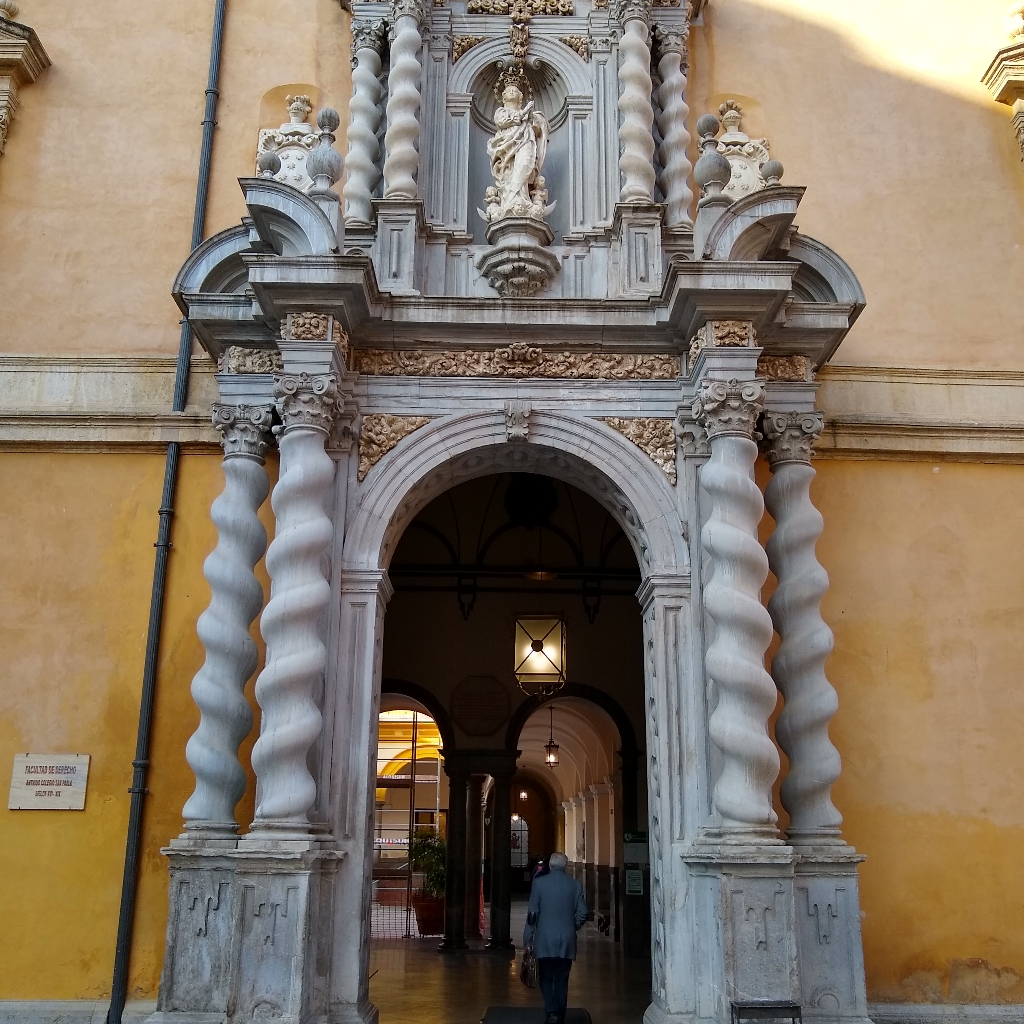arco-medio-punto: (369, 421, 674, 632)
columna-salomonica: (248, 412, 352, 838), (690, 429, 788, 844), (181, 429, 276, 845), (762, 439, 854, 860), (611, 6, 666, 225), (379, 0, 431, 212), (338, 28, 387, 230), (653, 39, 701, 232)
